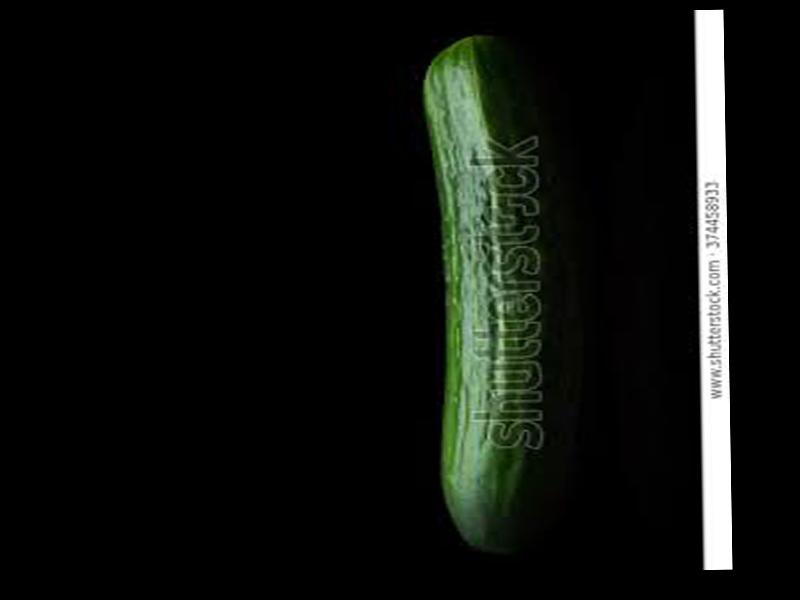Cucumber: (425, 31, 550, 552)
